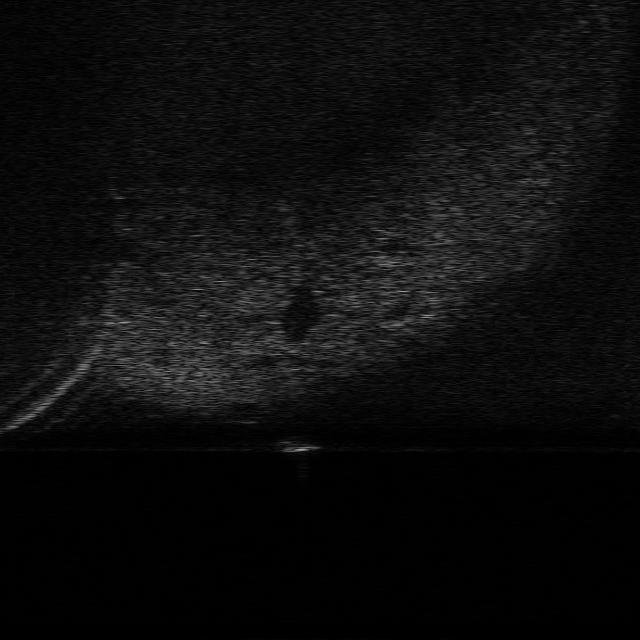cube: (278, 434, 322, 456)
